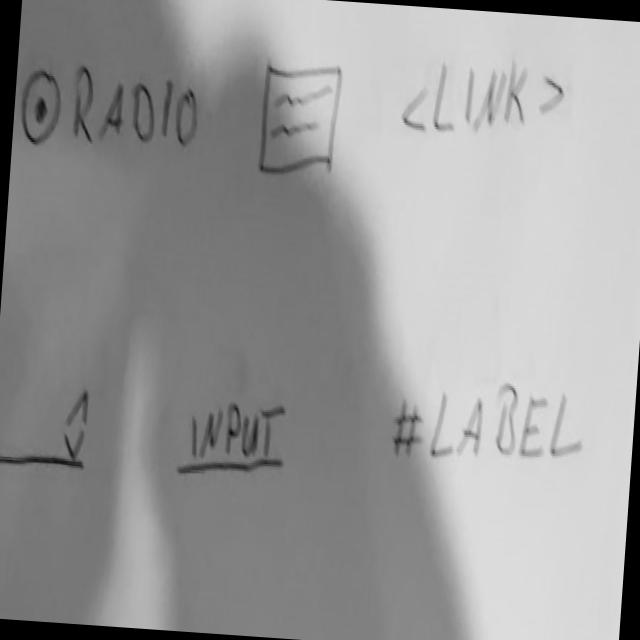input: (172, 387, 292, 488)
label: (384, 370, 590, 481)
link: (399, 45, 569, 151)
number-input: (0, 371, 93, 482)
radio: (14, 54, 204, 166)
textarea: (254, 58, 345, 184)
